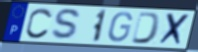1: (93, 9, 108, 44)
C: (25, 6, 55, 40)
D: (129, 11, 162, 45)
G: (106, 11, 134, 44)
S: (50, 8, 83, 42)
X: (156, 12, 192, 48)
